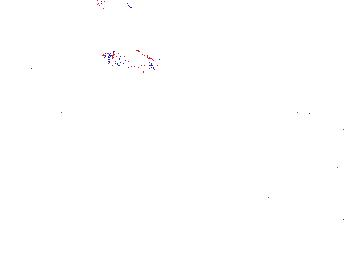X-ray fish: (18, 40, 85, 84)
glassfish: (224, 99, 330, 169)
redtail glassfish: (100, 46, 165, 76), (93, 1, 138, 14)
siberian prawn: (18, 2, 79, 20)
